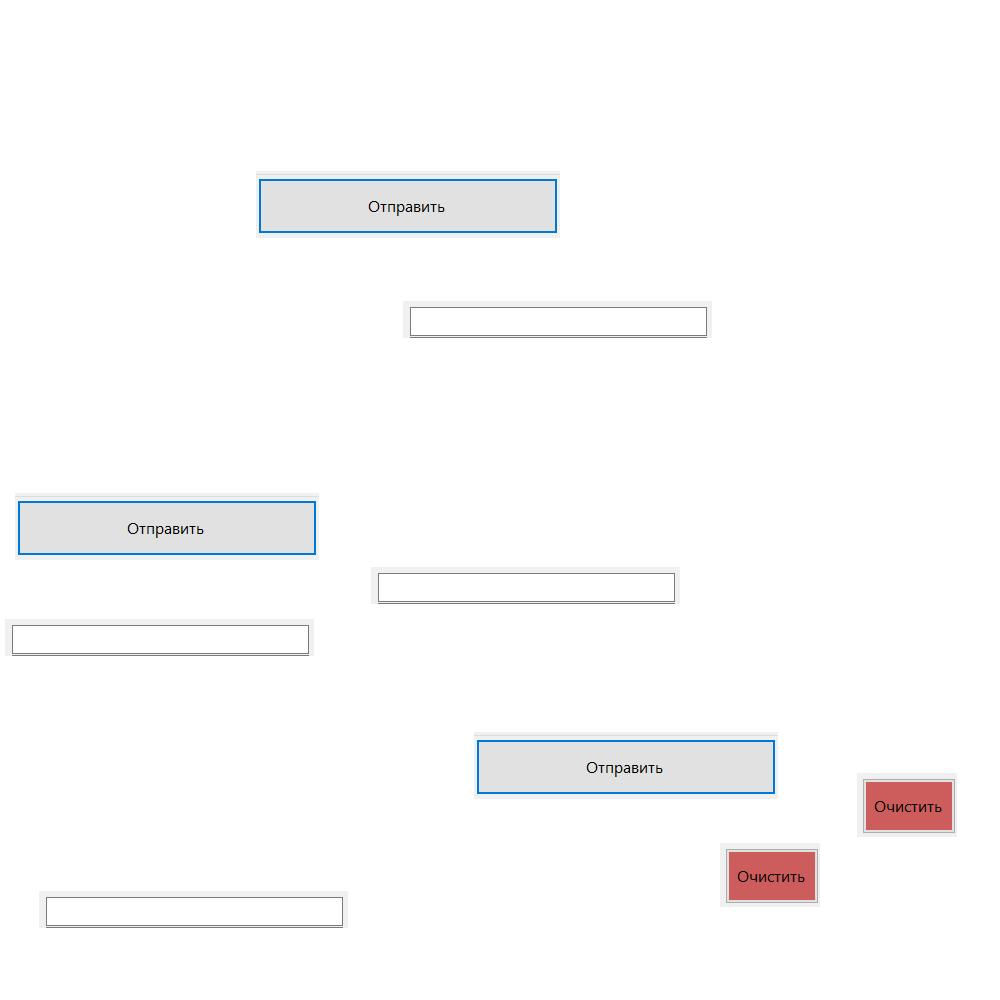Button: (474, 732, 778, 799), (256, 171, 560, 238), (15, 493, 319, 560), (857, 773, 957, 837), (720, 843, 820, 907)
EditText-: (39, 891, 348, 928), (5, 619, 314, 656), (371, 567, 680, 604), (403, 301, 712, 338)
